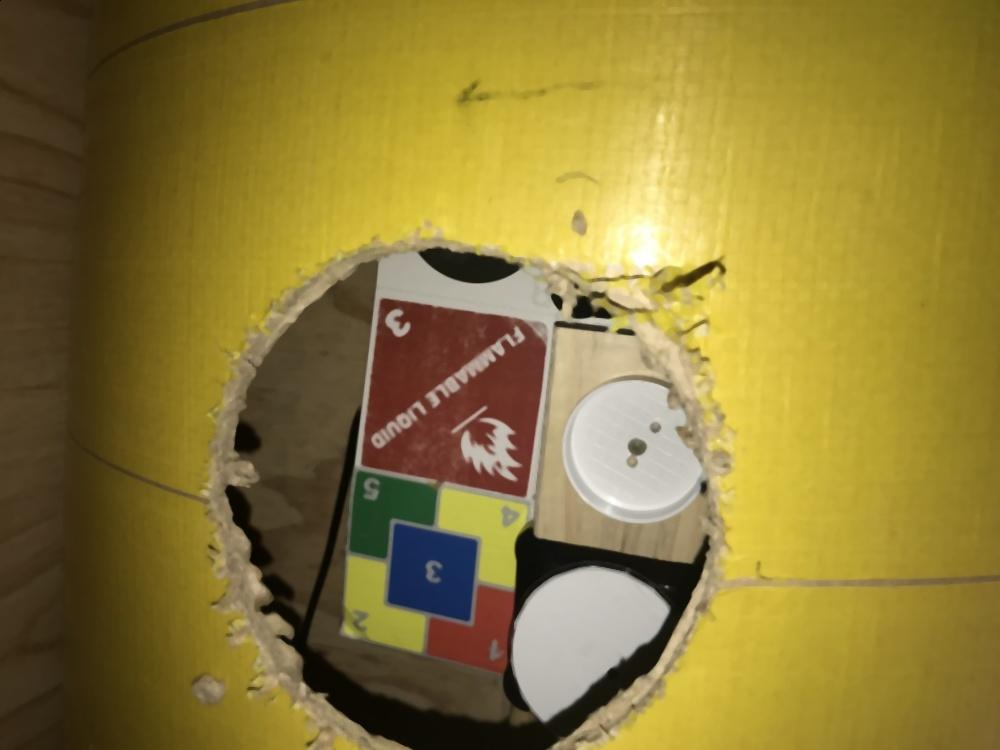flammable: (356, 302, 553, 498)
